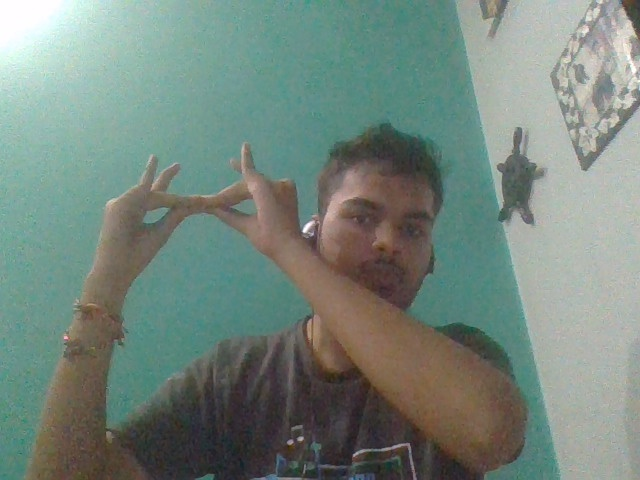family: (89, 141, 303, 267)
